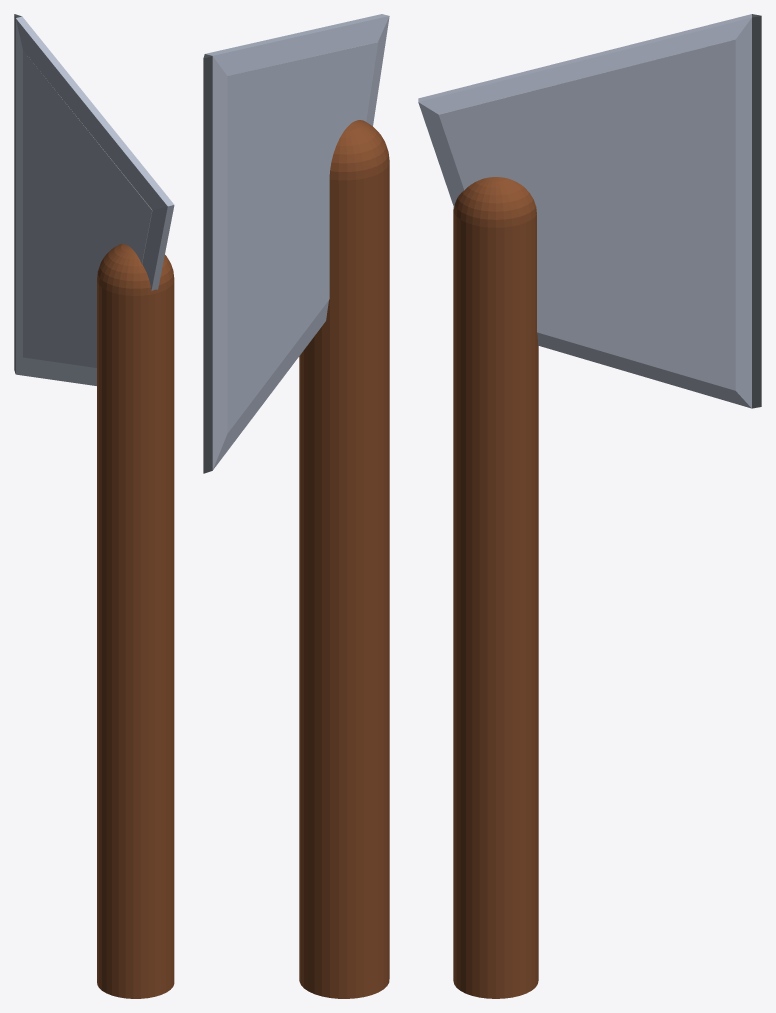
Rendered from Axe.fbx.
The picture shows the model from 3 angles, left to right: view 1: azimuth 30°, elevation 25°; view 2: azimuth 150°, elevation 25°; view 3: azimuth 270°, elevation 25°; orthographic projection. The views are drawn at different scales.
Parts seen in each view (by area): view 1: Sphere; view 2: Sphere; view 3: Sphere.
Boxes of the visible parts, x1,y1,x2,y2 form: Sphere: (14,14,174,998); Sphere: (203,14,389,998); Sphere: (418,14,761,998).
Size of the model in its own units: 10 by 125 by 40.38.
